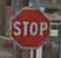stop: (9, 6, 49, 49)
